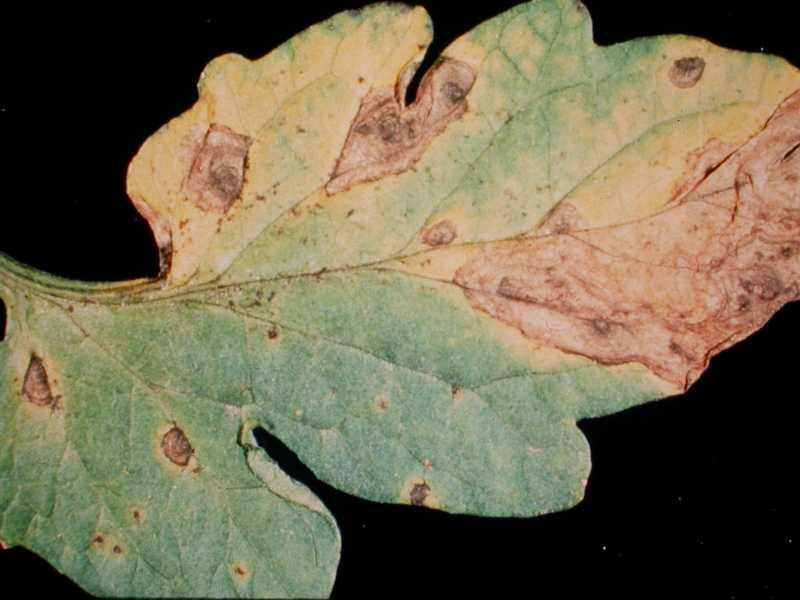Potato leaf late blight: (4, 2, 799, 583)
